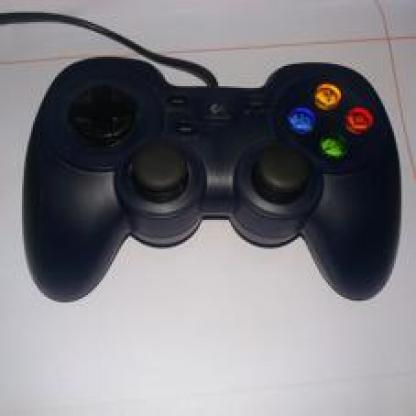gamepad: (26, 40, 391, 335)
